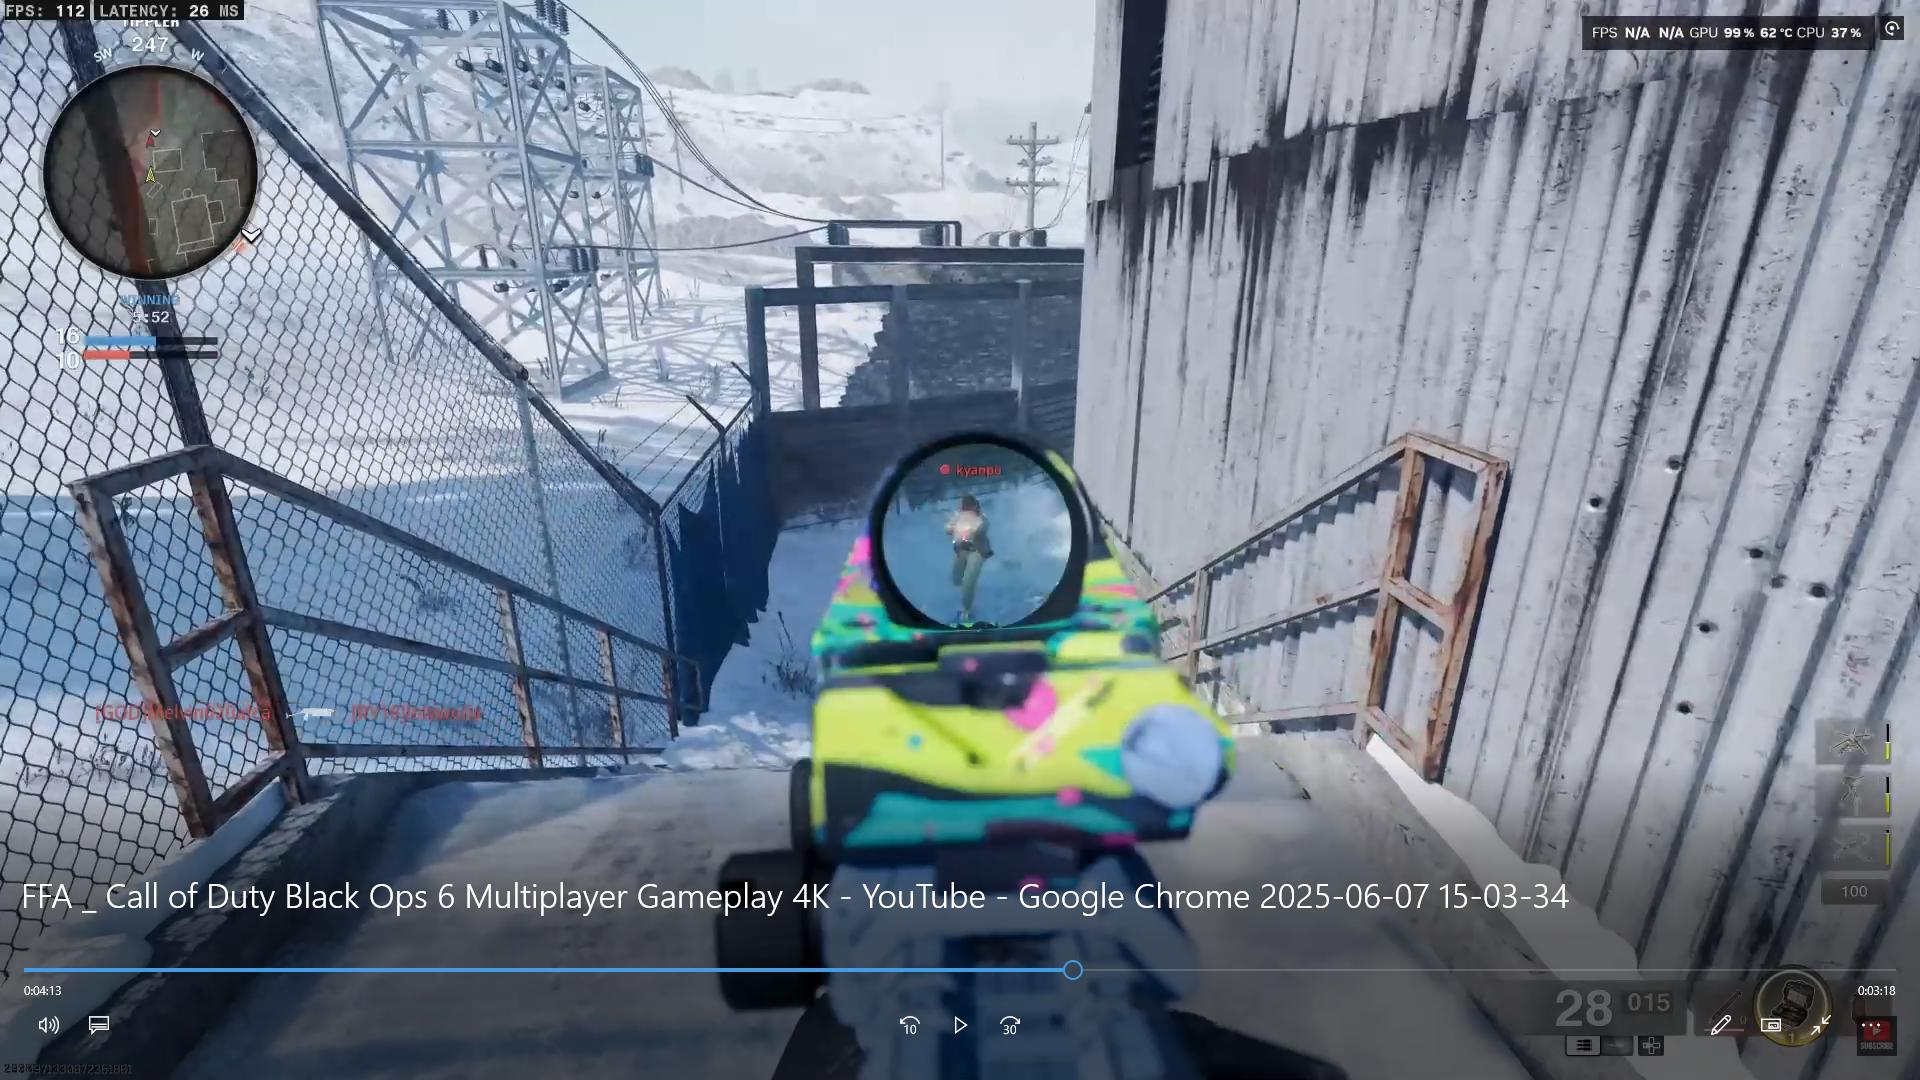Enemy: (942, 484, 992, 620)
